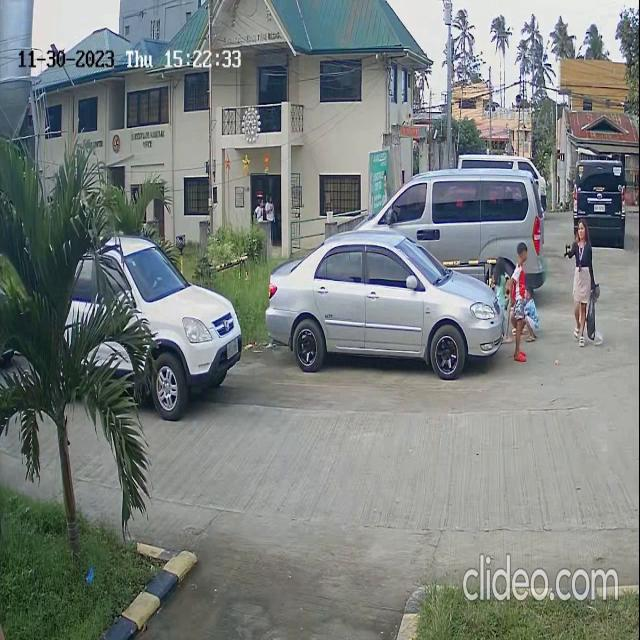person: (507, 239, 544, 362), (567, 213, 599, 350)
